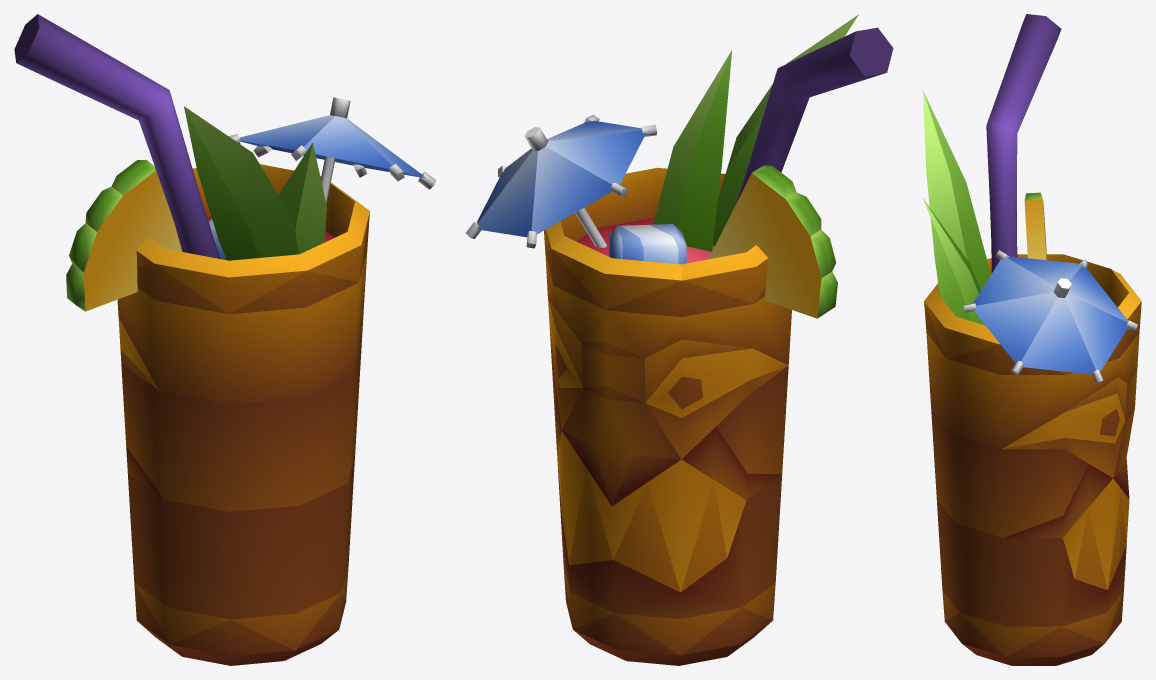
File: m_TikiDrink01.fbx
3 renders of one model, left to right at view 1: azimuth 30°, elevation 25°; view 2: azimuth 150°, elevation 25°; view 3: azimuth 270°, elevation 25°, orthographic. The views are drawn at different scales.
Parts seen in each view (by area): view 1: m_TikiDrink01; view 2: m_TikiDrink01; view 3: m_TikiDrink01.
Part boxes in pixels (<box>): m_TikiDrink01: <box>14,14,436,665</box>; m_TikiDrink01: <box>465,14,893,665</box>; m_TikiDrink01: <box>922,14,1141,665</box>.
Bounding box in the file's own units: 23.08 × 35.66 × 13.09.
